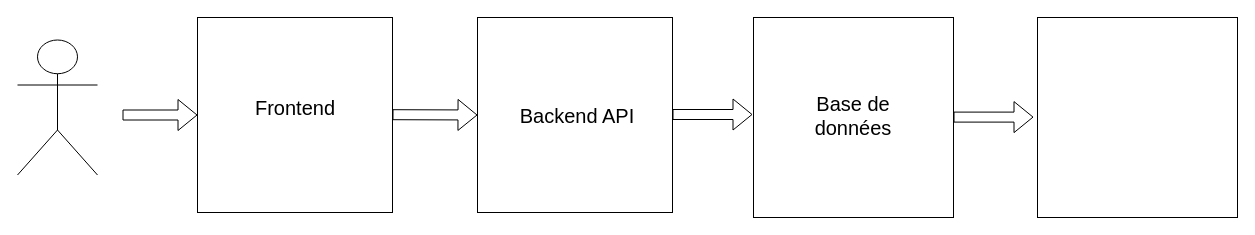
This 1255x235 diagram has some shape labels left out. The box of each missing label's shape, as (x1, y1, x2, y2) in pixels:
Services externes: (1036, 16, 1238, 218)
User: (16, 39, 98, 175)
